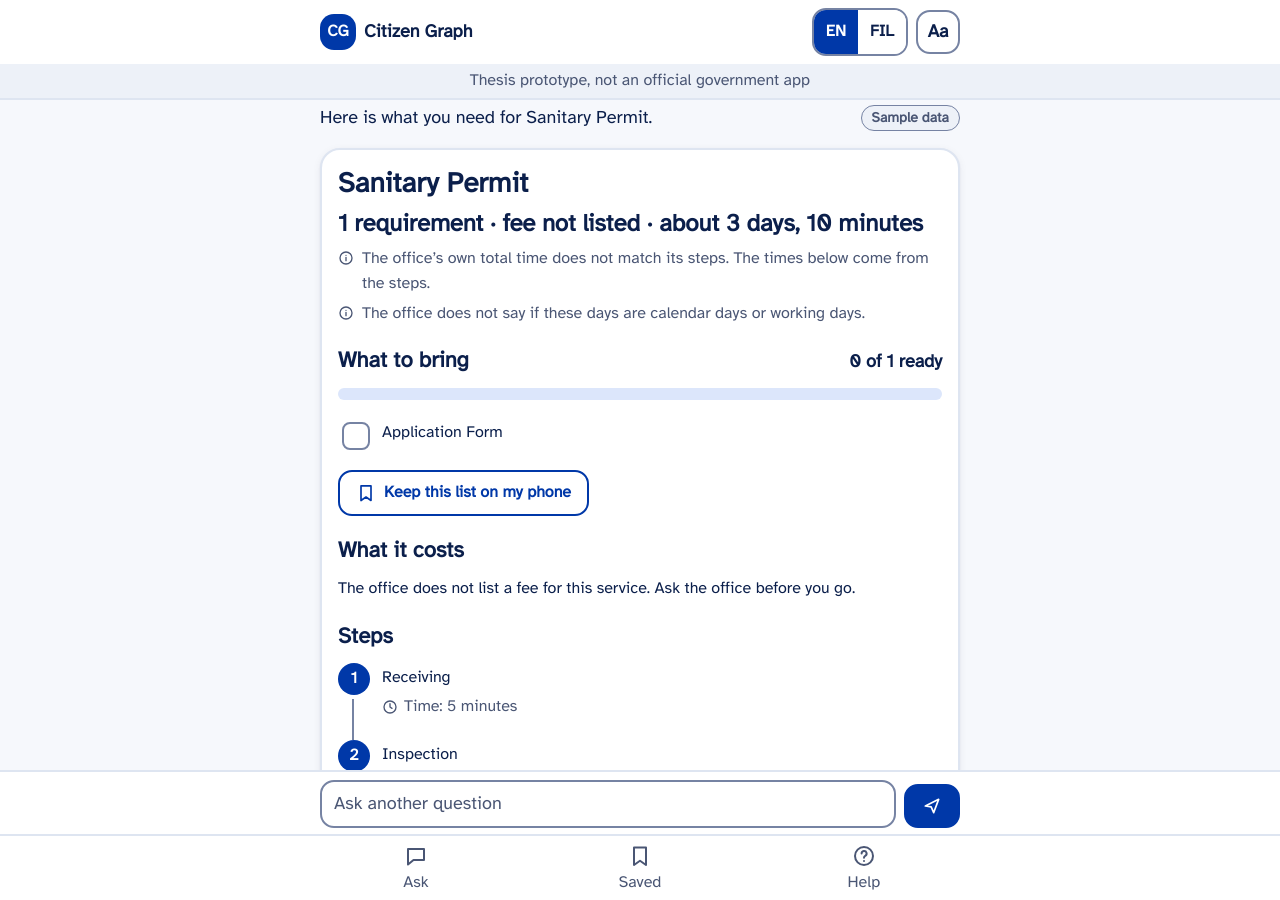
Test: Filipino time display › shows a list of times in Filipino units
(page scrolled)
Click the button with aria-label "Filipino": coordinates (882, 32) top-left (858, 10), bottom-right (906, 54)
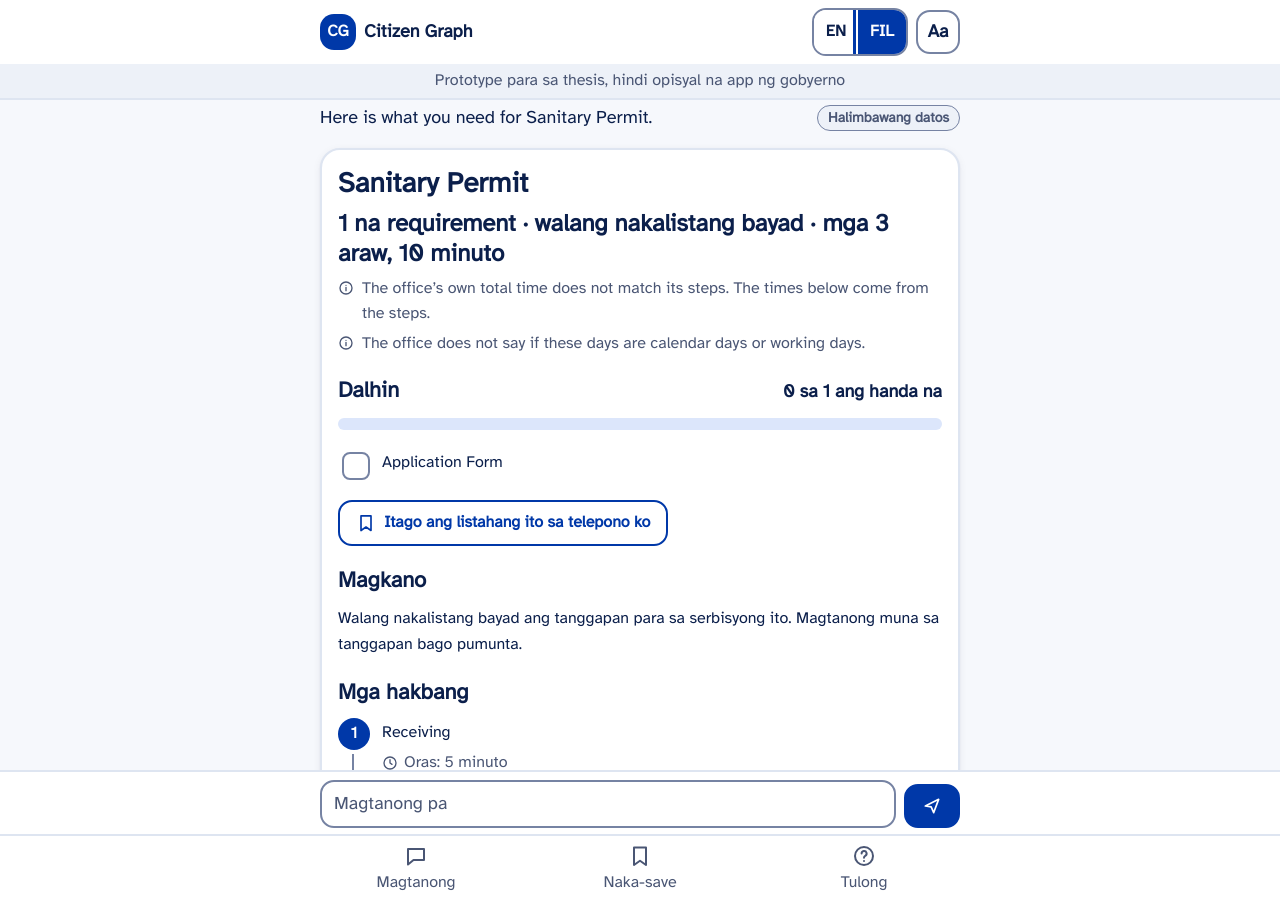
Check: the text "Oras: 3 araw" is shown, box top-left (382, 827), bottom-right (491, 853)
Check: the text "mga 3 araw, 10 minuto" is shown, box top-left (338, 208), bottom-right (889, 268)
